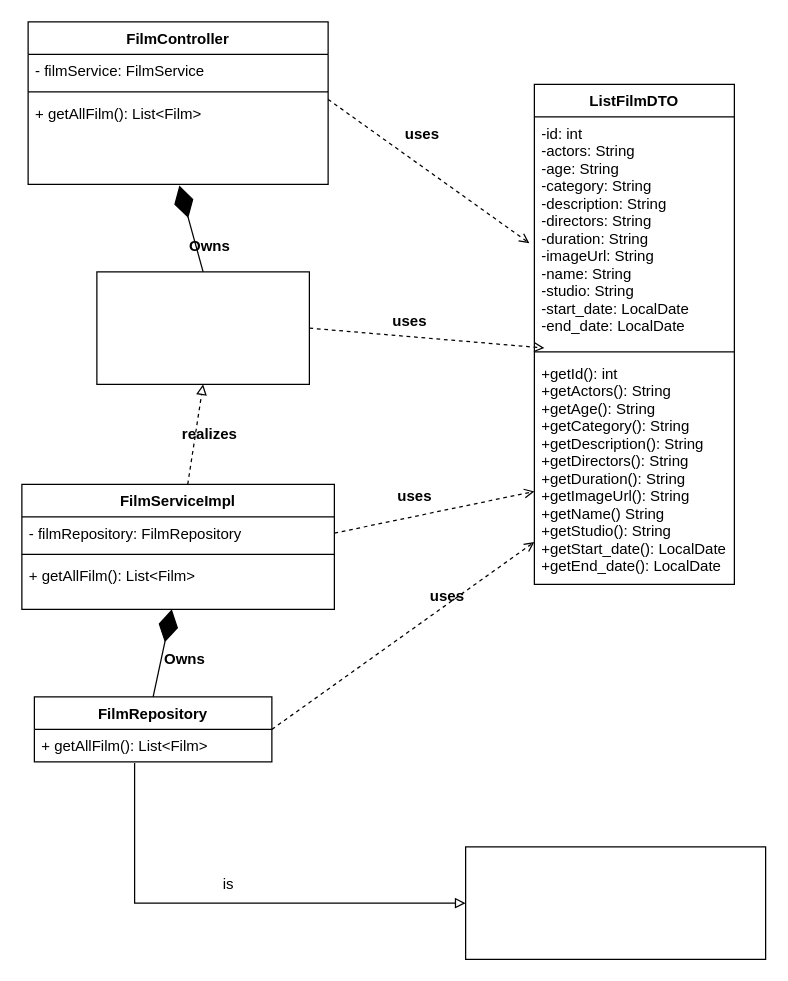
Some shapes in this 788 by 981 pixel diagram are drawn without their labels. Here are the shapes that lost their labels. From the top down, the centre of each, then its label:
At (x=202, y=327): "<<Interface>> FilmService + getAllFilm(): List<Film>".
At (x=615, y=902): "<<Interface>> JpaRepository".
